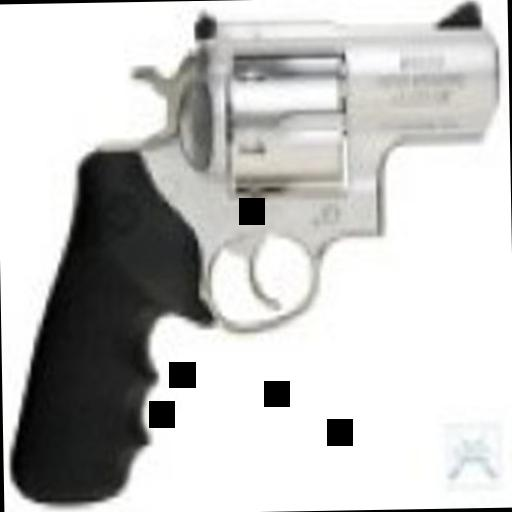Handgun: (0, 0, 505, 502)
